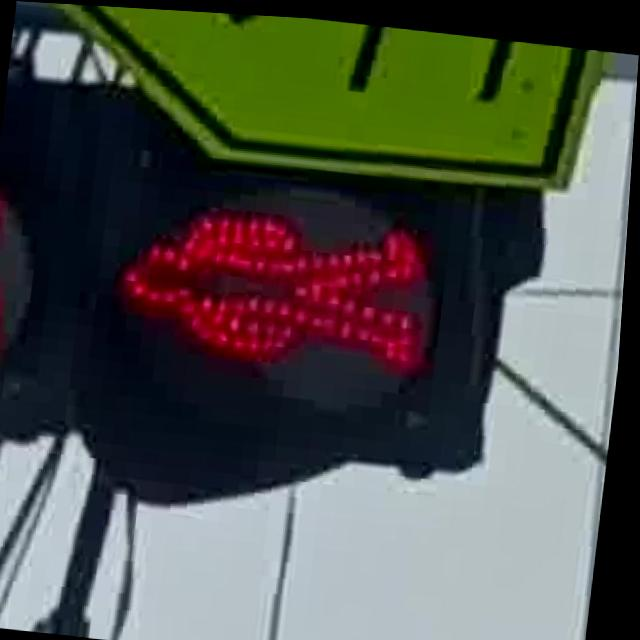red_light: (84, 171, 458, 419)
